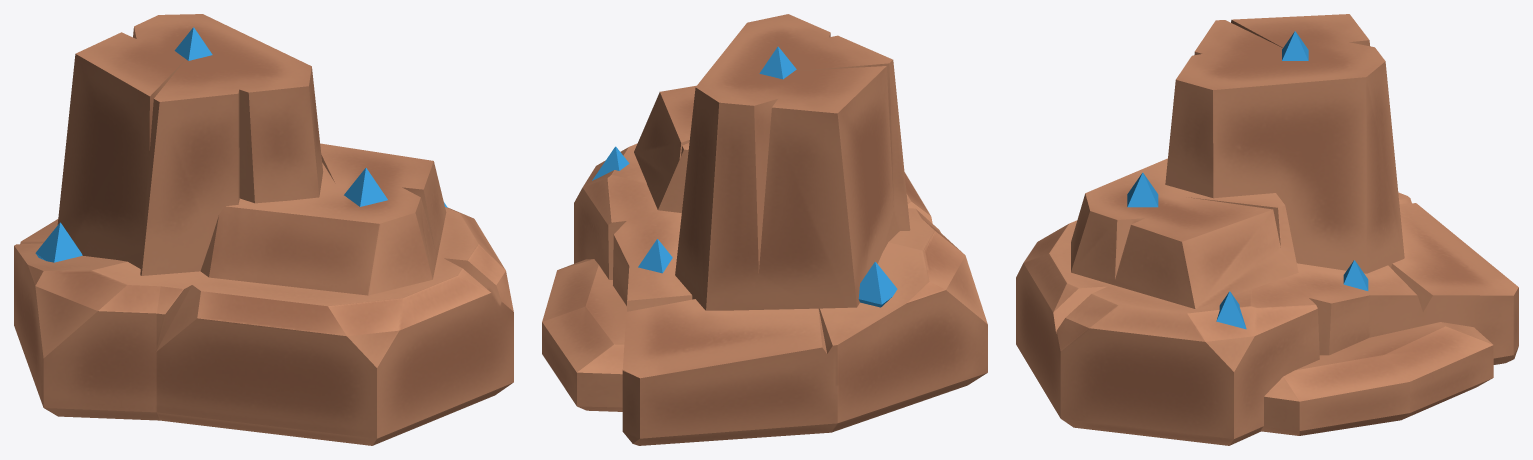
The model's file is Saphire.glb.
The picture shows the model from 3 angles, left to right: view 1: azimuth 30°, elevation 25°; view 2: azimuth 150°, elevation 25°; view 3: azimuth 270°, elevation 25°; orthographic projection. The views are drawn at different scales.
Parts seen in each view (by area): view 1: Cube.003_small_rock_0, Cube.034, Cube.031, Cube; view 2: Cube.003_small_rock_0, Cube.034, Cube.032, Cube, Cube.033; view 3: Cube.003_small_rock_0, Cube.031, Cube.033, Cube, Cube.032.
Boxes of the visible parts, box(x1,y1,x2,y2) form: Cube.003_small_rock_0: box(14, 14, 513, 445); Cube.034: box(35, 222, 82, 262); Cube.031: box(344, 168, 387, 206); Cube: box(174, 27, 212, 60); Cube.003_small_rock_0: box(542, 14, 987, 445); Cube.034: box(858, 262, 897, 307); Cube.032: box(638, 239, 672, 273); Cube: box(759, 46, 796, 79); Cube.033: box(592, 146, 629, 180); Cube.003_small_rock_0: box(1016, 14, 1518, 445); Cube.031: box(1127, 172, 1158, 207); Cube.033: box(1216, 291, 1246, 329); Cube: box(1282, 31, 1308, 60); Cube.032: box(1343, 260, 1368, 290).
Bounding box in the file's own units: 2.67 × 2.02 × 2.9.
2 materials, 1 textured.
